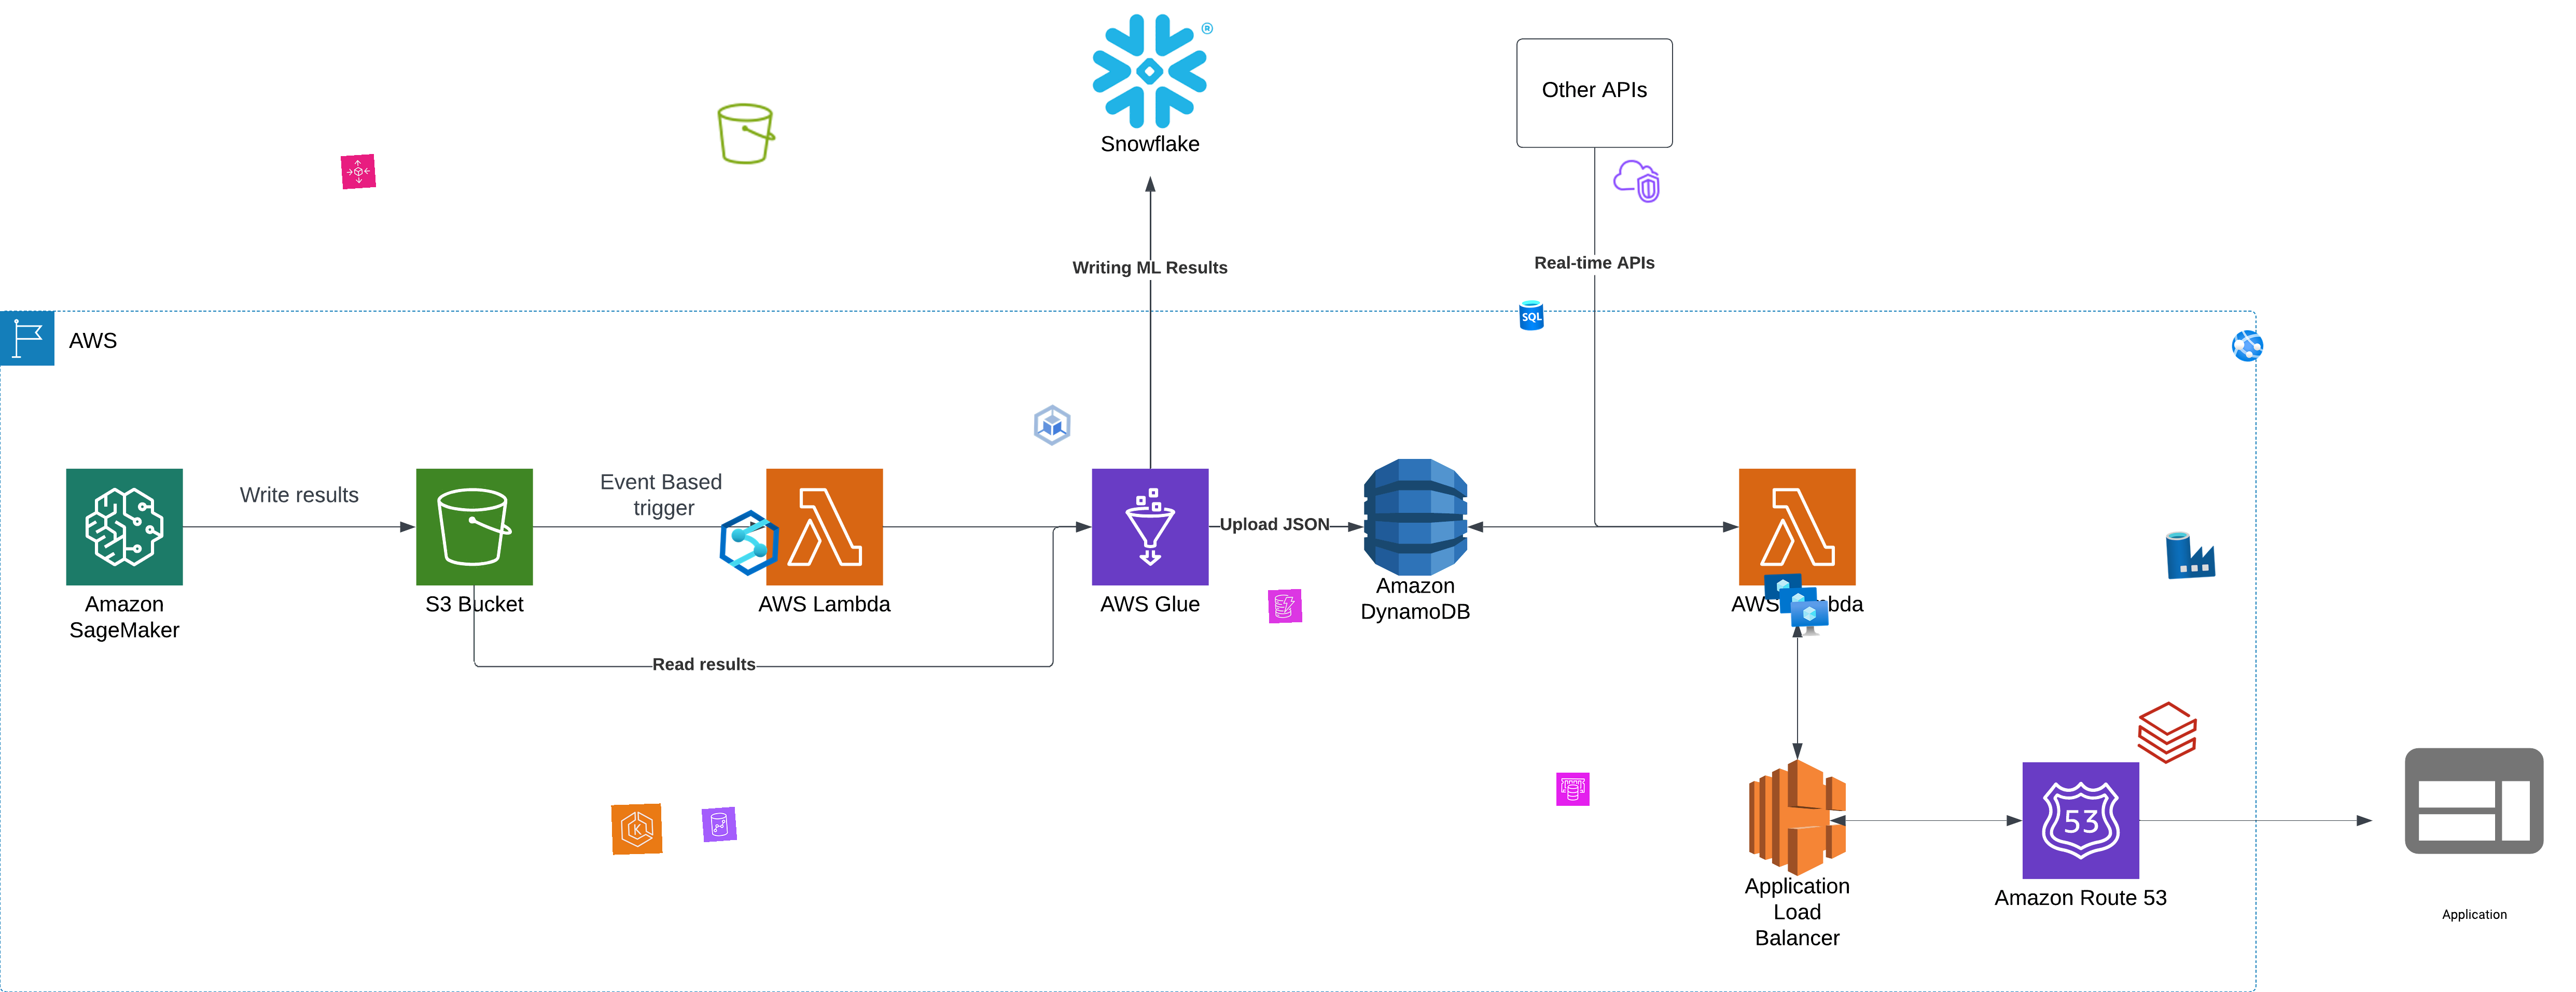aws_amazon_dynamodb: (1268, 588, 1303, 624)
aws_amazon_elastic_kubernetes_service: (611, 803, 662, 856)
aws_amazon_elasticache: (1556, 772, 1590, 806)
aws_amazon_redshift: (701, 806, 738, 843)
aws_auto_scaling: (340, 153, 376, 191)
aws_simple_storage_service_bucket: (711, 100, 780, 168)
aws_vpc_virtual_private_cloud_vpc: (1610, 154, 1663, 209)
azure_app_services: (2229, 328, 2265, 363)
azure_data_factories: (2164, 527, 2218, 581)
azure_databricks: (2132, 698, 2203, 769)
azure_sql_database: (1513, 297, 1549, 332)
azure_synapse_analytics: (715, 507, 785, 578)
azure_vm_scale_sets: (1761, 568, 1830, 639)
gcp_google_kubernetes_engine: (1027, 399, 1078, 450)
